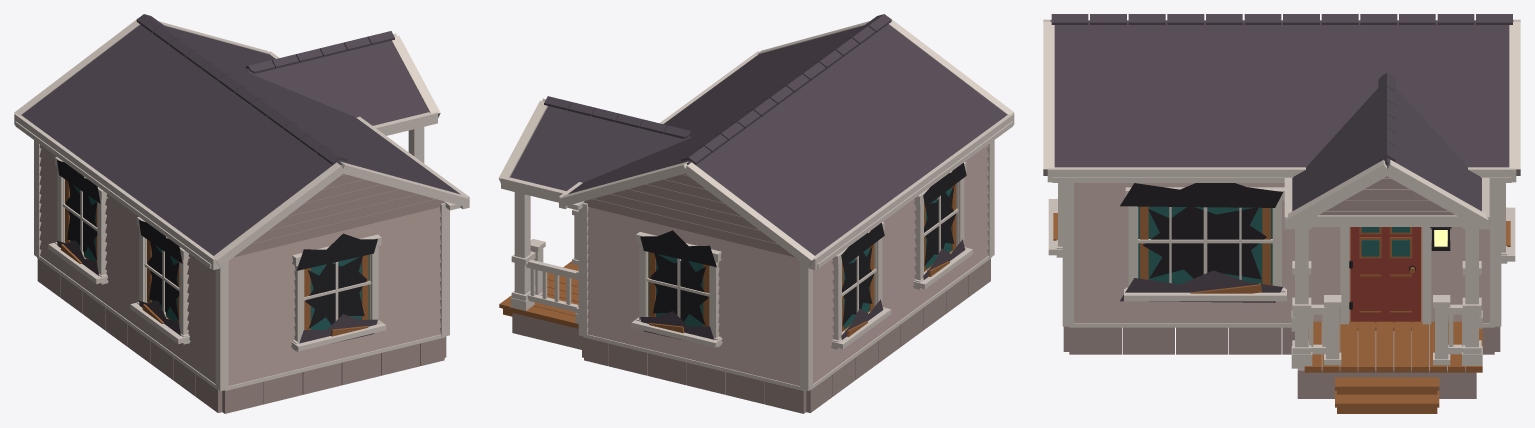
Rendered from bld.house-a.w3.lod1.glb.
3 views of the same model, side by side, from view 1: azimuth 30°, elevation 25°; view 2: azimuth 150°, elevation 25°; view 3: azimuth 270°, elevation 25° (orthographic). The views are drawn at different scales.
Visible parts, largest first — view 1: roof, body, object 6; view 2: roof, body, object 6; view 3: roof, body, object 6, door_front.
Boxes of the visible parts, bbox=[...] form: roof: bbox=[14, 14, 469, 270]; body: bbox=[34, 127, 449, 413]; object 6: bbox=[48, 157, 386, 351]; roof: bbox=[498, 14, 1014, 269]; body: bbox=[499, 140, 994, 413]; object 6: bbox=[631, 162, 972, 349]; roof: bbox=[1043, 14, 1520, 229]; body: bbox=[1062, 183, 1501, 413]; object 6: bbox=[1048, 183, 1515, 302]; door_front: bbox=[1349, 227, 1420, 322].
Size of the model in its own units: 7.14 by 4.56 by 7.17.
